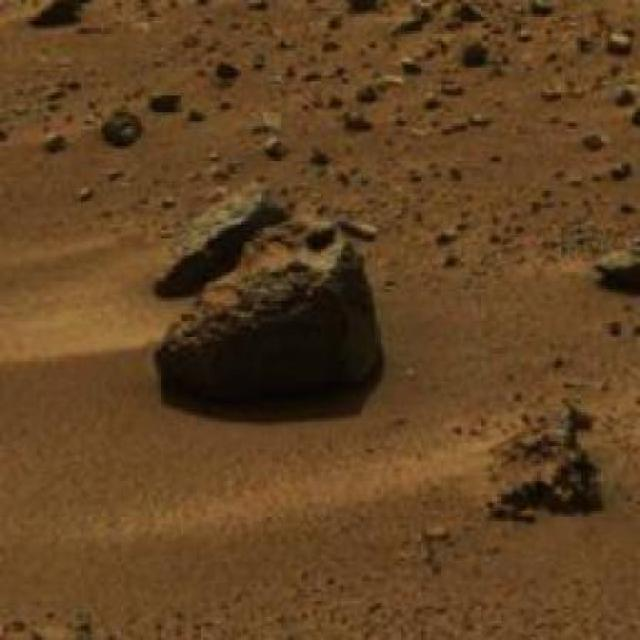rock: (148, 231, 386, 391), (144, 179, 290, 298), (590, 238, 638, 300)
